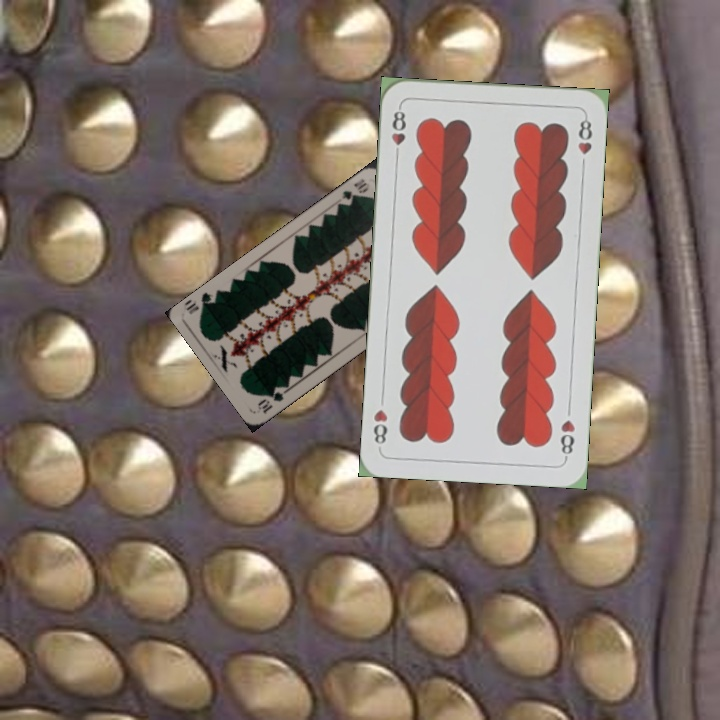G10: (253, 382, 290, 417), (338, 174, 372, 205)
H8: (387, 102, 409, 161), (556, 415, 578, 462)
